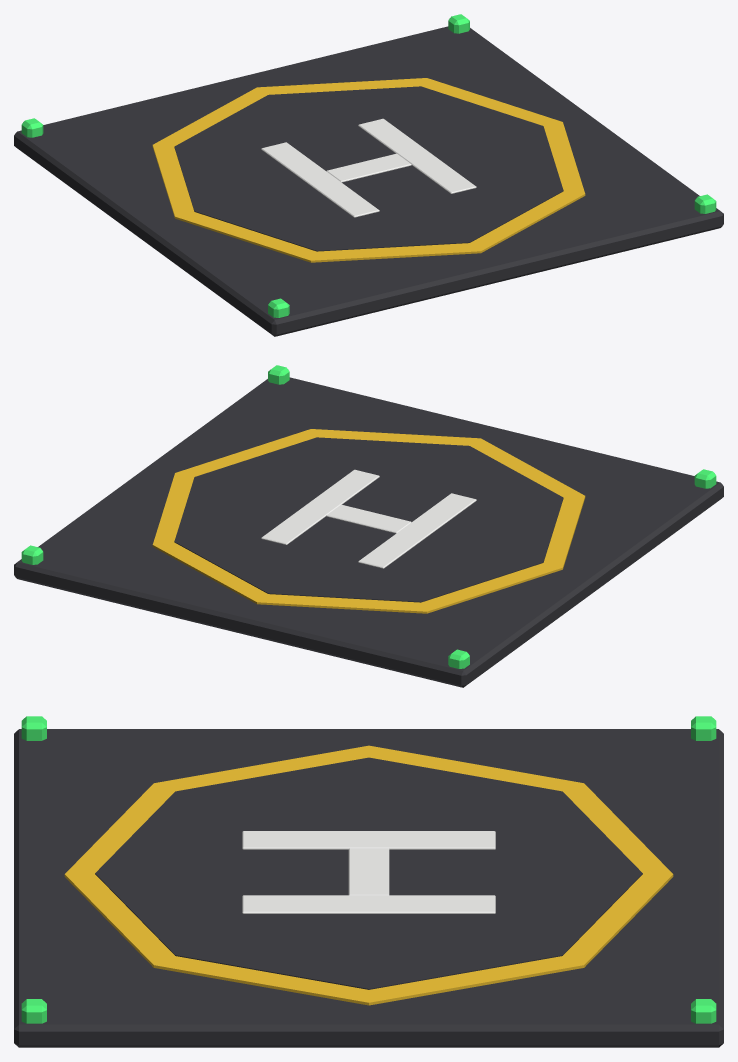
Rendered from Helipad.fbx.
3 renders of one model, top to bottom at view 1: azimuth 30°, elevation 25°; view 2: azimuth 150°, elevation 25°; view 3: azimuth 270°, elevation 25°, orthographic. The views are drawn at different scales.
Parts seen in each view (by area): view 1: Helipad; view 2: Helipad; view 3: Helipad.
Boxes of the visible parts, <box> form: Helipad: <box>14,14,723,336</box>; Helipad: <box>14,365,723,687</box>; Helipad: <box>14,716,723,1047</box>.
Bounding box in the file's own units: 14 × 0.85 × 14.
1 material, 1 textured.
